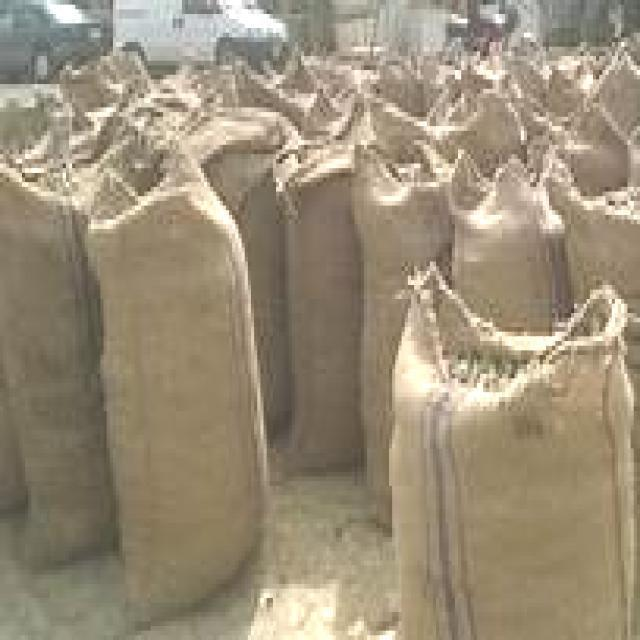gunny_bag: (385, 269, 639, 640), (85, 169, 277, 640), (0, 161, 117, 572), (355, 149, 455, 526), (188, 107, 292, 434), (279, 137, 367, 478), (455, 159, 571, 334), (565, 187, 640, 301)
